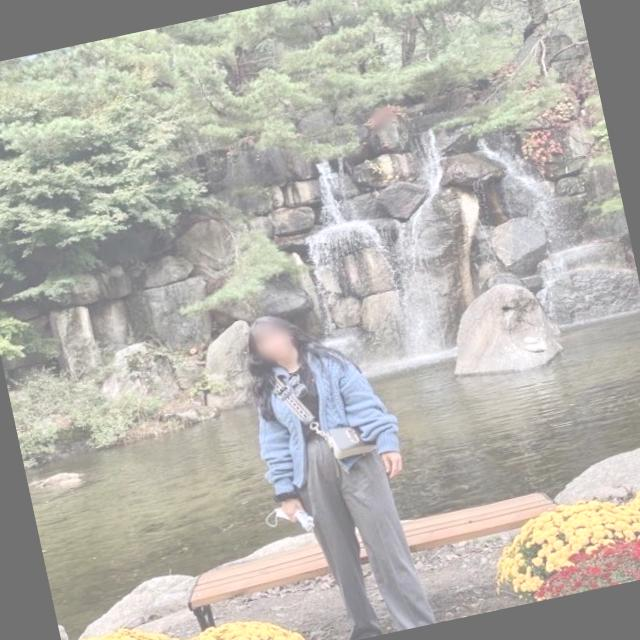cardigan: (240, 329, 403, 494)
slacks: (281, 414, 439, 640)
